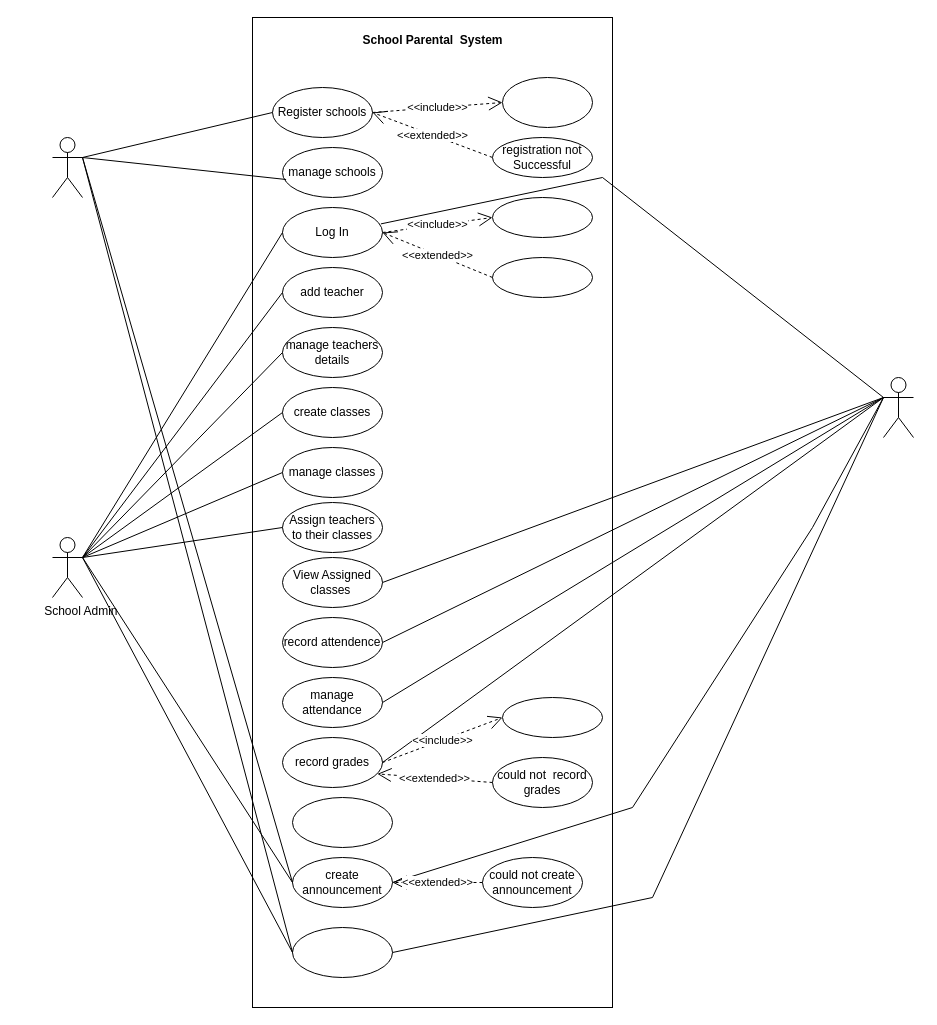
Image size: 937x1025. Some labels were removed from this diagram. Here are the shapes that lost their labels. From the top down, the centre of each, then its label:
At [547,102]: "registration Successful".
At [67,167]: "Super Admin".
At [542,217]: "Log in successful".
At [542,277]: "Log In Error".
At [898,407]: "Teacher".
At [552,717]: "grades successfully recorded".
At [342,822]: "manage recorded grades".
At [342,952]: "manage announcement".
